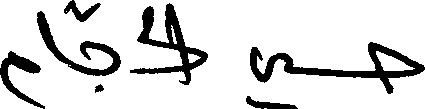ا: (166, 0, 191, 85), (38, 6, 63, 66)
ح: (366, 40, 423, 94), (139, 42, 208, 76)
خ: (79, 38, 120, 93)
ل: (133, 2, 159, 45)
م: (0, 46, 40, 107)
ى: (248, 44, 292, 107)
